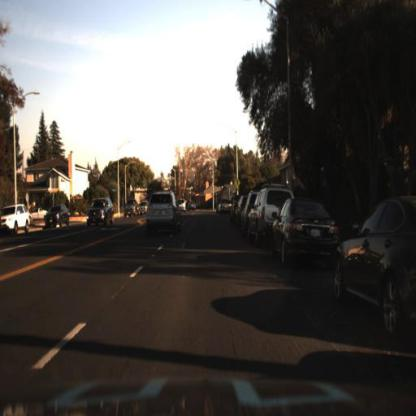car: (332, 195, 416, 335), (271, 195, 345, 264), (247, 185, 296, 248), (146, 189, 183, 240), (2, 205, 32, 236), (86, 198, 115, 227), (46, 205, 72, 230), (124, 199, 140, 220), (188, 194, 201, 213)
